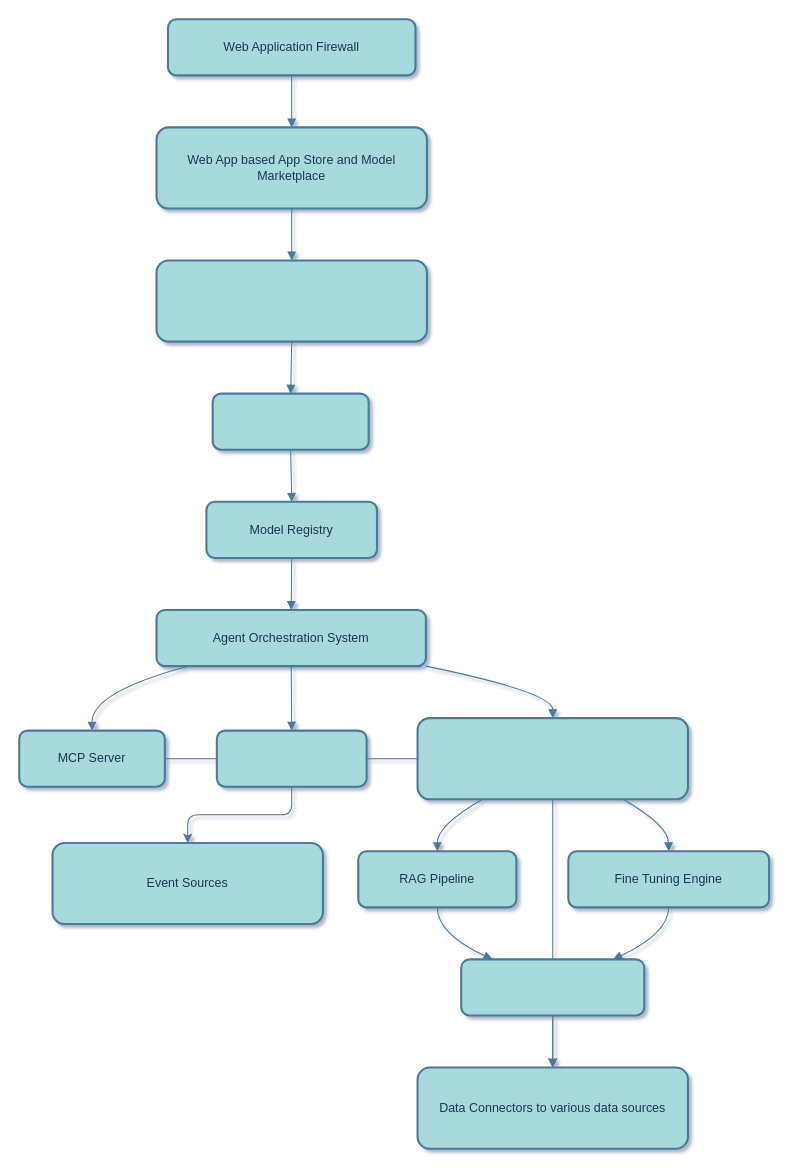
Some shapes in this 794 by 1173 pixel diagram are drawn without their labels. The shapes that lost their labels are listed below. From the top down, each one's centre as x and y in pixels, then its label:
point 291,300: Keycloak based Authentication System
point 290,421: API Gateway
point 291,758: MCP Clients
point 552,758: SLMs and LLMs Self Hosted on vLLM
point 552,987: Vector Database
